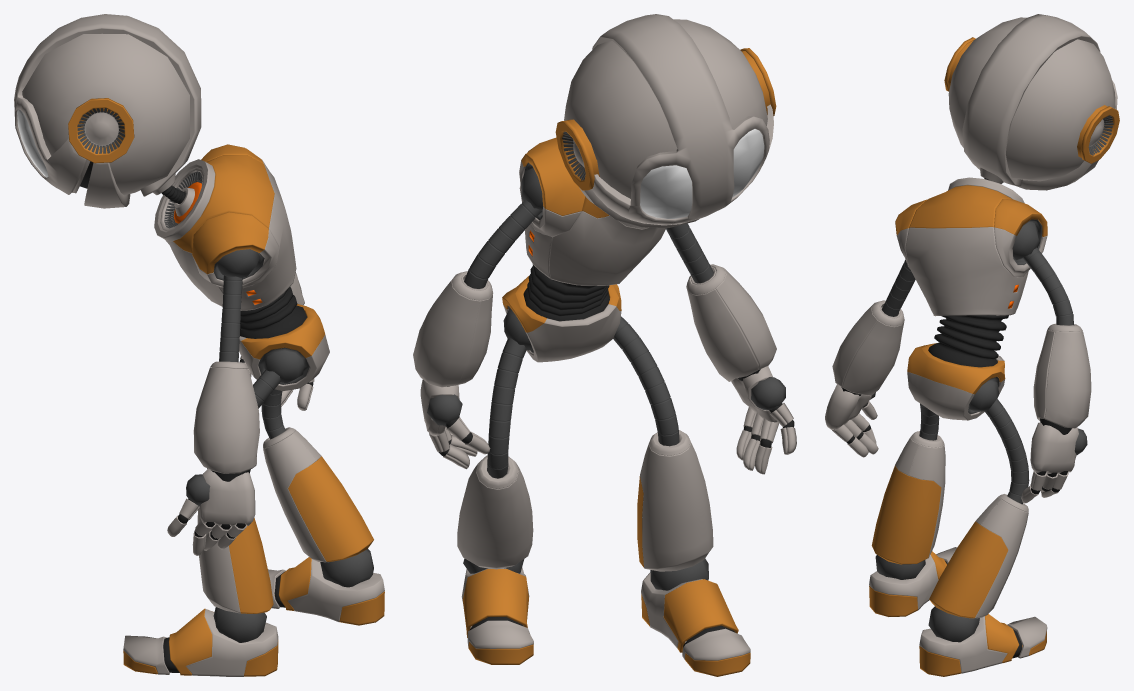
Rendered from Rivert_Jump.fbx.
3 renders of one model, left to right at view 1: azimuth 30°, elevation 25°; view 2: azimuth 150°, elevation 25°; view 3: azimuth 270°, elevation 25°, orthographic. The views are drawn at different scales.
Visible parts, largest first — view 1: Rivet_body_GEO, Rivet_arms_GEO; view 2: Rivet_body_GEO, Rivet_arms_GEO; view 3: Rivet_body_GEO, Rivet_arms_GEO.
Part boxes in pixels (x1=…): Rivet_body_GEO: x1=14, y1=14, x2=384, y2=676; Rivet_arms_GEO: x1=167, y1=272, x2=314, y2=555; Rivet_body_GEO: x1=457, y1=14, x2=776, y2=676; Rivet_arms_GEO: x1=413, y1=199, x2=796, y2=474; Rivet_body_GEO: x1=869, y1=14, x2=1119, y2=676; Rivet_arms_GEO: x1=825, y1=247, x2=1091, y2=503.
Bounding box in the file's own units: 75.26 × 141 × 67.89.
